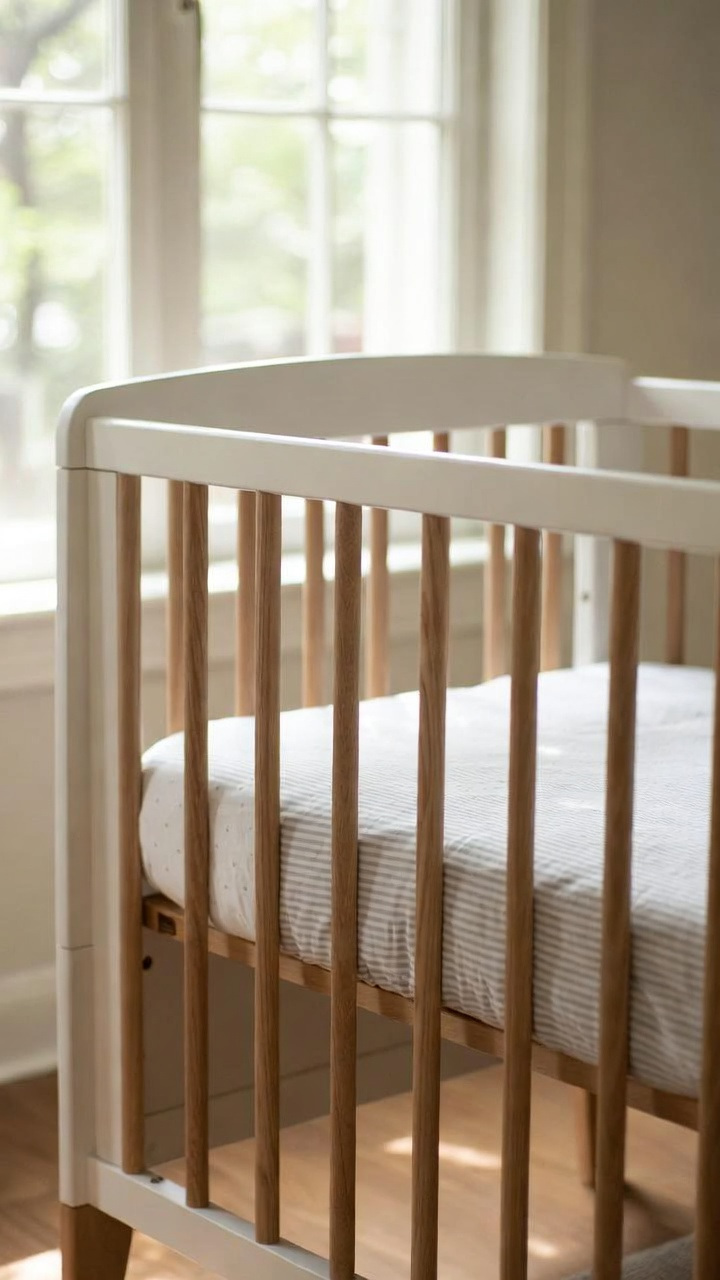crib: (58, 355, 719, 1280)
